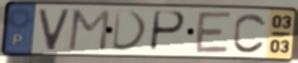C: (231, 11, 269, 55)
D: (111, 8, 151, 53)
E: (193, 10, 234, 55)
M: (66, 8, 113, 53)
P: (147, 9, 188, 54)
V: (37, 7, 73, 52)
